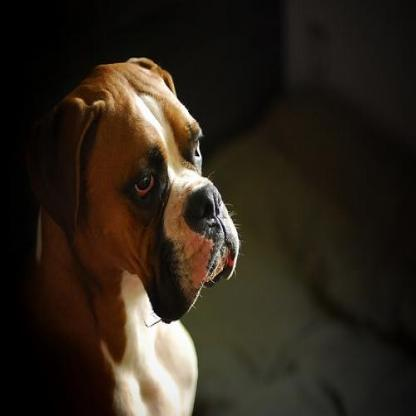boxer: (0, 56, 247, 414)
